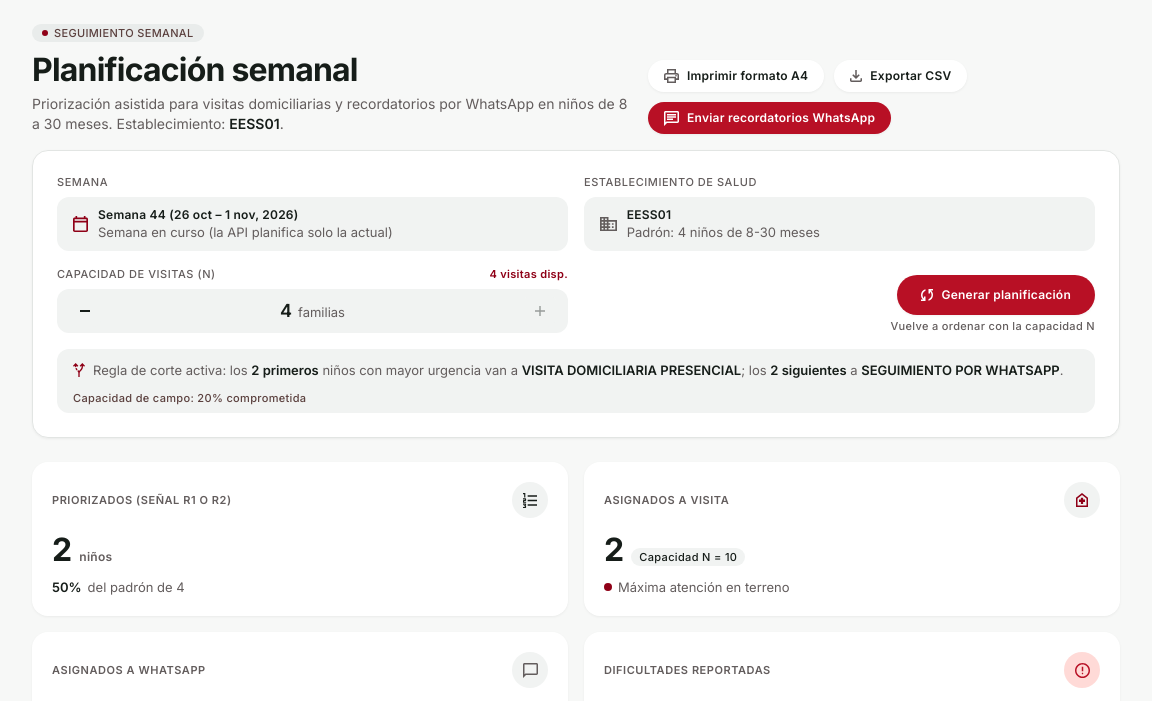
Test case: Pantalla de Planificación › envía los recordatorios después de confirmar y deja el resultado en pantalla
What coordinates should you click on to do the following:
click the button "Enviar recordatorios WhatsApp"
I would click on:
 (770, 118)
Its box is 648,102 -> 891,134.
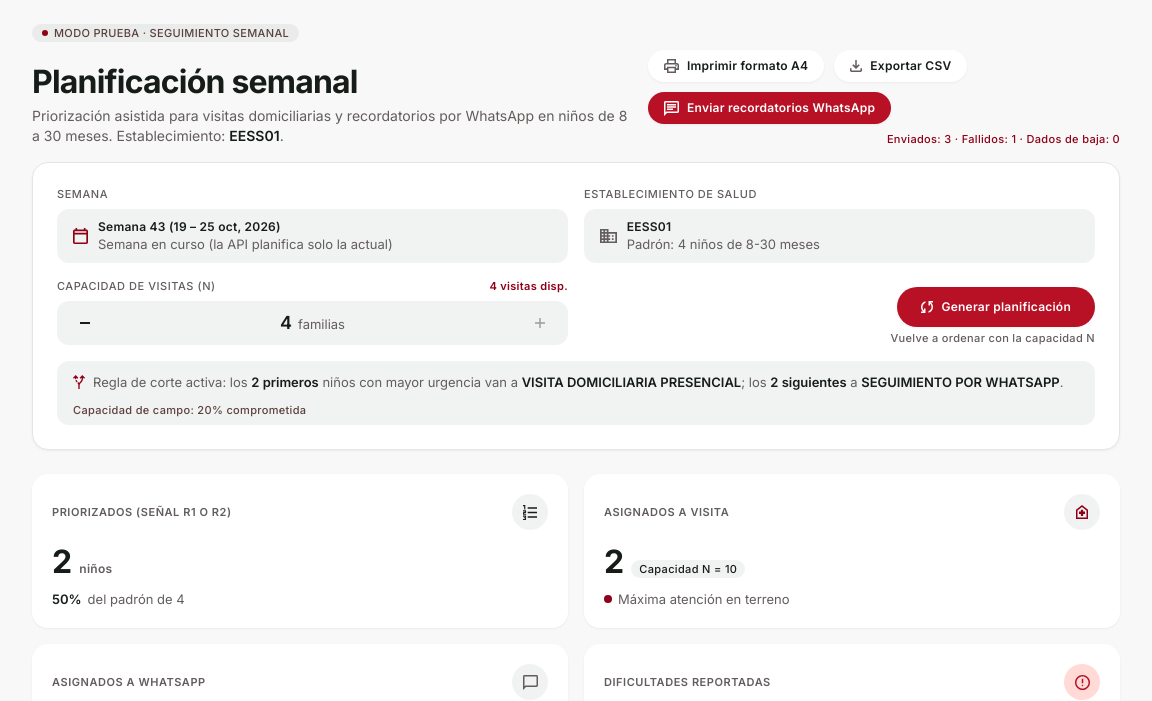
Result: the text "Enviados: 3 · Fallidos: 1 · Dados de baja: 0" is shown at 887,132 -> 1120,146
